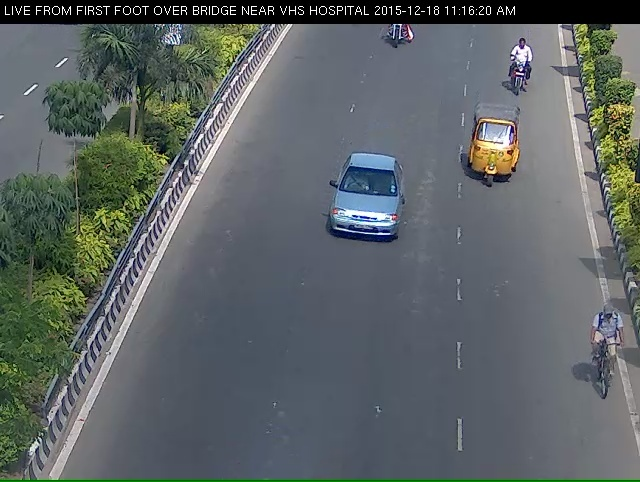Auto: (460, 108, 525, 192)
Car: (318, 161, 405, 271)
Person: (501, 42, 539, 97), (378, 23, 414, 53)
